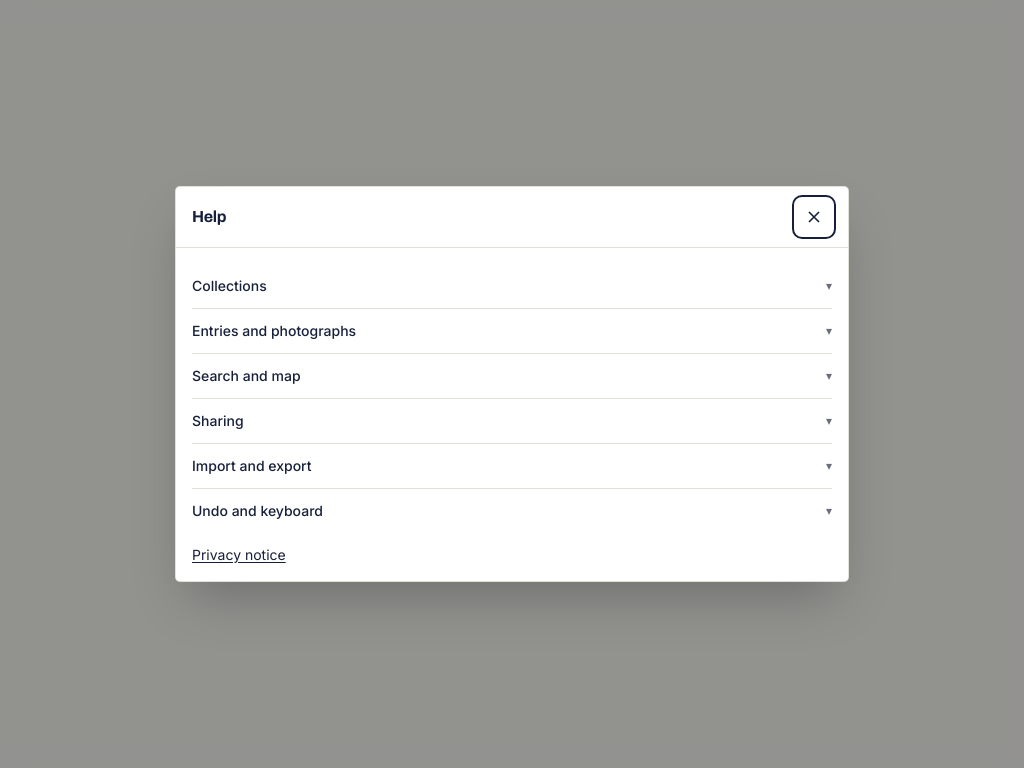
Test: HelpDialog › shows a topic once its title is clicked
The image size is (1024, 768).
Click the heading "Sharing ▾": (218, 420) [192,412,832,429]
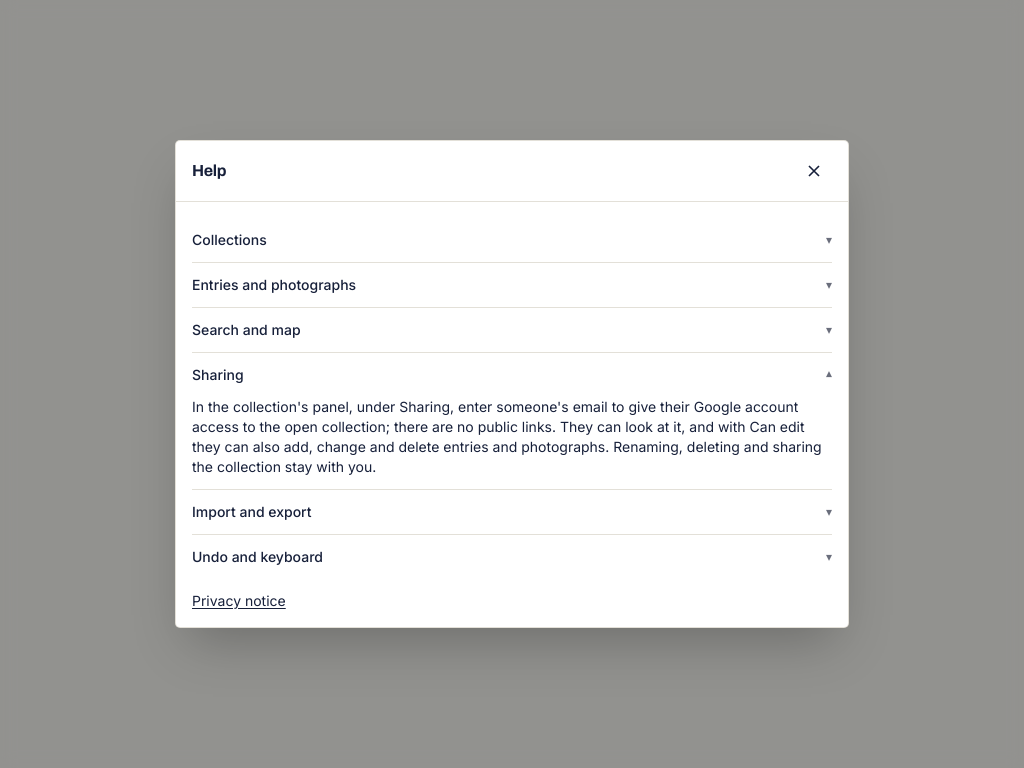
expect the element with test id "help-topic-sharing" shows "Can edit": met, box [192,398,822,475]
